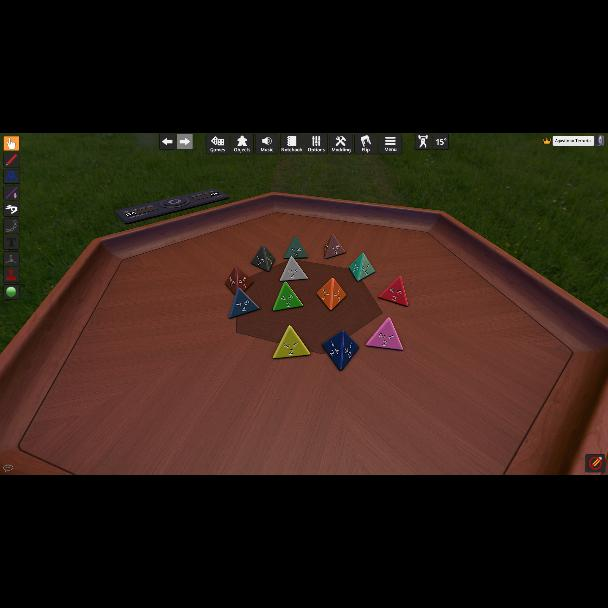d4: (320, 330, 356, 370), (274, 326, 310, 362), (366, 318, 402, 352), (228, 288, 260, 318), (273, 281, 303, 311), (380, 276, 408, 306), (318, 278, 344, 310), (227, 266, 252, 296), (280, 256, 308, 282), (350, 253, 375, 281), (251, 246, 275, 272), (284, 236, 306, 260), (324, 235, 344, 259)
